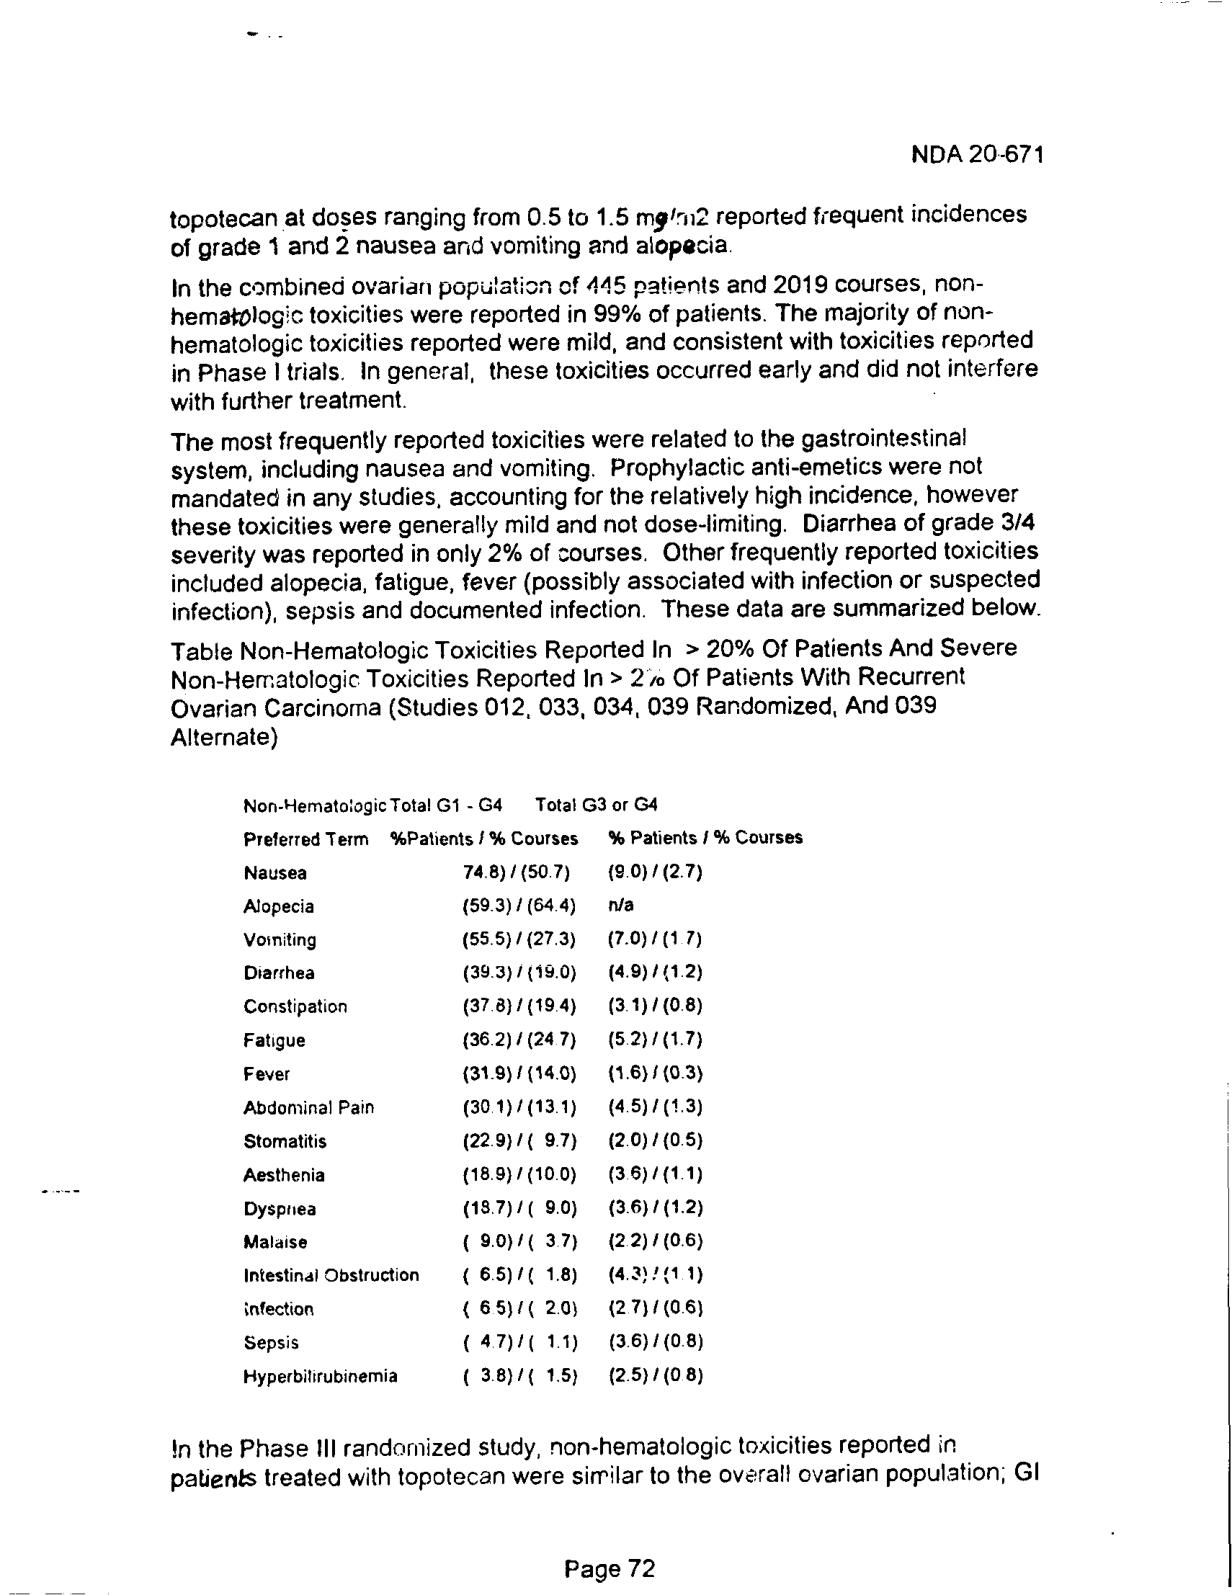nolines: (237, 824, 809, 1388)
